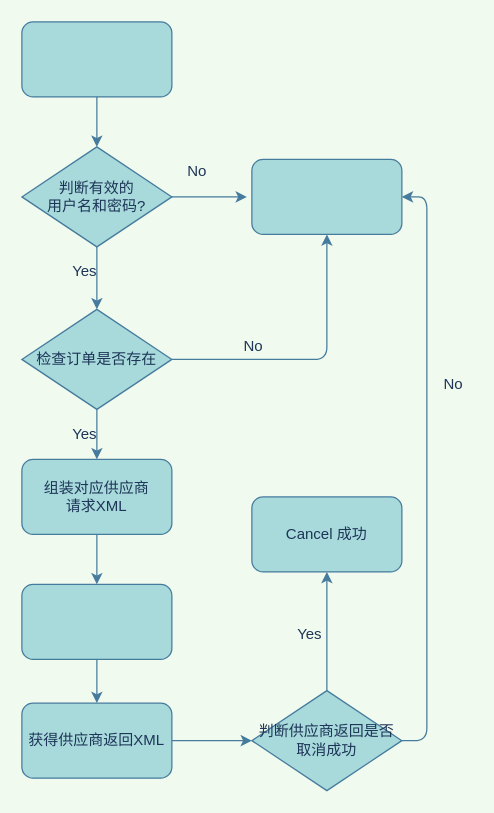
This 494x813 diagram has some shape labels left out. Here are the shapes that lost their labels. From the top down, the centre of each, then its label:
point (96, 59): 发起CancelRQ
point (326, 196): Cancel 失败
point (96, 621): 发送供应商 请求并且记log
